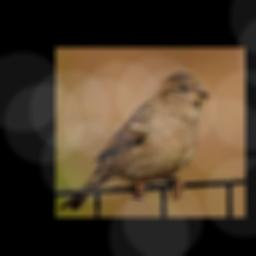Sparrow: (59, 72, 209, 209)
